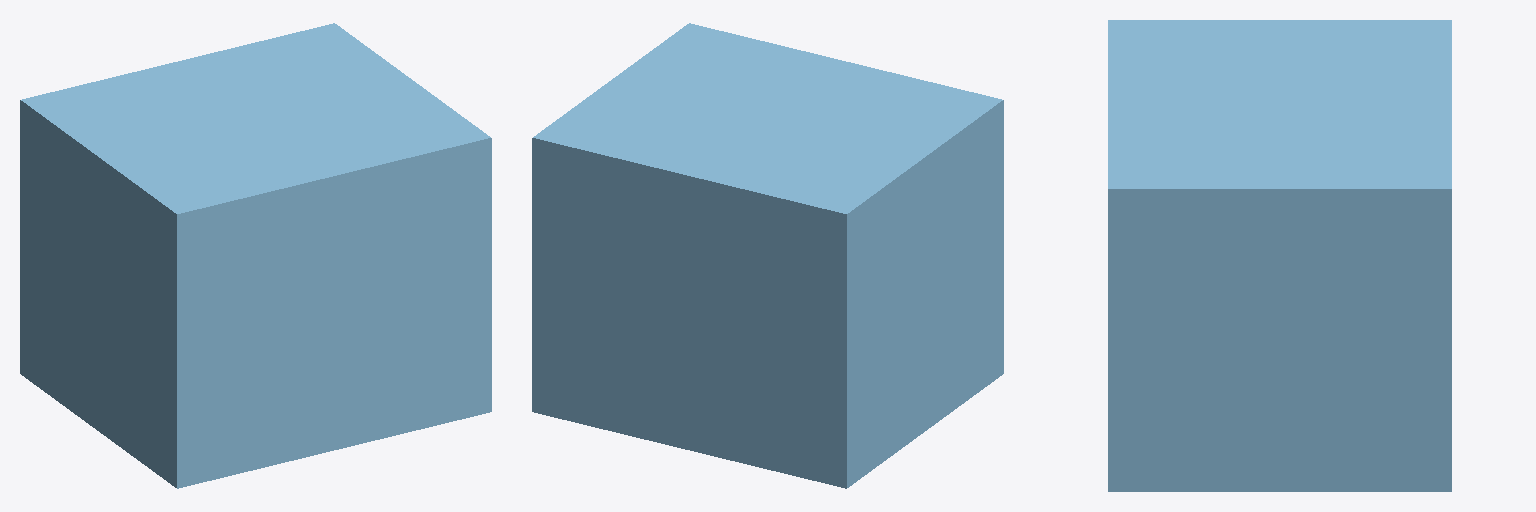
The robot description file, URDF, robot "assembly_1":
<?xml version="1.0" ?>
<robot name="assembly_1">
  <link name="base">
    <inertial>
      <origin rpy="0 0 0" xyz="0 0 0"/>
      <mass value="0.001"/>
      <inertia ixx="0.000001" ixy="0" ixz="0" iyy="0.000001" iyz="0" izz="0.000001"/>
    </inertial>
  </link>
  <joint name="floating_base" type="fixed">
    <origin rpy="0 0 0" xyz="0 0 0"/>
    <parent link="base"/>
    <child link="Part_1"/>
  </joint>
  <link name="Part_1">
    <visual>
      <origin xyz="0 0 0" rpy="0 0 0"/>
      <geometry>
        <mesh filename="meshes/Part_1.stl"/>
      </geometry>
      <material name="Part_1_material">
        <color rgba="0.61568627 0.81176471 0.92941176 1"/>
      </material>
    </visual>
    <collision>
      <origin xyz="0 0 0" rpy="0 0 0"/>
      <geometry>
        <mesh filename="meshes/Part_1.stl"/>
      </geometry>
    </collision>
    <inertial>
      <mass value="0.020388249"/>
      <inertia ixx="2.1983314e-06" iyy="2.5883919e-06" izz="2.6629473e-06" ixy="0" ixz="0" iyz="0"/>
      <origin xyz="0 0 0" rpy="0 0 0"/>
    </inertial>
  </link>
  <joint name="Revolute_1" type="revolute">
    <origin xyz="-0.014987169 0 0" rpy="1.57 0 01.57"/>
    <parent link="Part_1"/>
    <child link="Part_1_2"/>
    <limit effort="80" velocity="5" lower="-1.5707963" upper="1.5707963"/>
    <axis xyz="0 0 1"/>
  </joint>
  <link name="Part_1_2">
    <visual>
      <origin xyz="0 0 0" rpy="0 0 0"/>
      <geometry>
        <mesh filename="meshes/Part_1_2.stl"/>
      </geometry>
      <material name="Part_1_material_2">
        <color rgba="0.61568627 0.81176471 0.92941176 1"/>
      </material>
    </visual>
    <collision>
      <origin xyz="0 0 0" rpy="0 0 0"/>
      <geometry>
        <mesh filename="meshes/Part_1_2.stl"/>
      </geometry>
    </collision>
    <inertial>
      <mass value="0.020388249"/>
      <inertia ixx="2.5883919e-06" iyy="2.6629473e-06" izz="2.1983314e-06" ixy="0" ixz="0" iyz="0"/>
      <origin xyz="0 0 -0.014987169" rpy="0 0 0"/>
    </inertial>
  </link>
  <joint name="Revolute_2" type="revolute">
    <origin xyz="0.014987169 0 0" rpy="1.5707963 0 1.5707963"/>
    <parent link="Part_1"/>
    <child link="Part_1_3"/>
    <limit effort="80" velocity="5" lower="-1.5707963" upper="1.5707963"/>
    <axis xyz="0 0 -1"/>
  </joint>
  <link name="Part_1_3">
    <visual>
      <origin xyz="0 0 0" rpy="0 0 0"/>
      <geometry>
        <mesh filename="meshes/Part_1_3.stl"/>
      </geometry>
      <material name="Part_1_material_3">
        <color rgba="0.61568627 0.81176471 0.92941176 1"/>
      </material>
    </visual>
    <collision>
      <origin xyz="0 0 0" rpy="0 0 0"/>
      <geometry>
        <mesh filename="meshes/Part_1_3.stl"/>
      </geometry>
    </collision>
    <inertial>
      <mass value="0.020388249"/>
      <inertia ixx="2.5883919e-06" iyy="2.6629473e-06" izz="2.1983314e-06" ixy="0" ixz="0" iyz="0"/>
      <origin xyz="0 0 0.014987169" rpy="0 0 0"/>
    </inertial>
  </link>
</robot>

--- Facts derived from the render (not from the file) ---
The picture shows the robot from 3 angles, left to right: view 1: azimuth 30°, elevation 25°; view 2: azimuth 150°, elevation 25°; view 3: azimuth 270°, elevation 25°; orthographic projection.
Model assembly_1 with 4 links and 3 joints (2 revolute, 1 fixed), rooted at base, posed all joints at 0.
Visible links, largest first — view 1: Part_1; view 2: Part_1; view 3: Part_1.
Boxes of the visible links, box(x1,y1,x2,y2) form: Part_1: box(20, 23, 491, 488); Part_1: box(532, 23, 1003, 488); Part_1: box(1108, 20, 1451, 491).
Size in the robot's own frame: 0.03 by 0.0259 by 0.025 metres.
1 mesh visuals loaded from 3 distinct referenced files (1 binary STL); not drawn: 2 (reference not matched to a file when rendering).